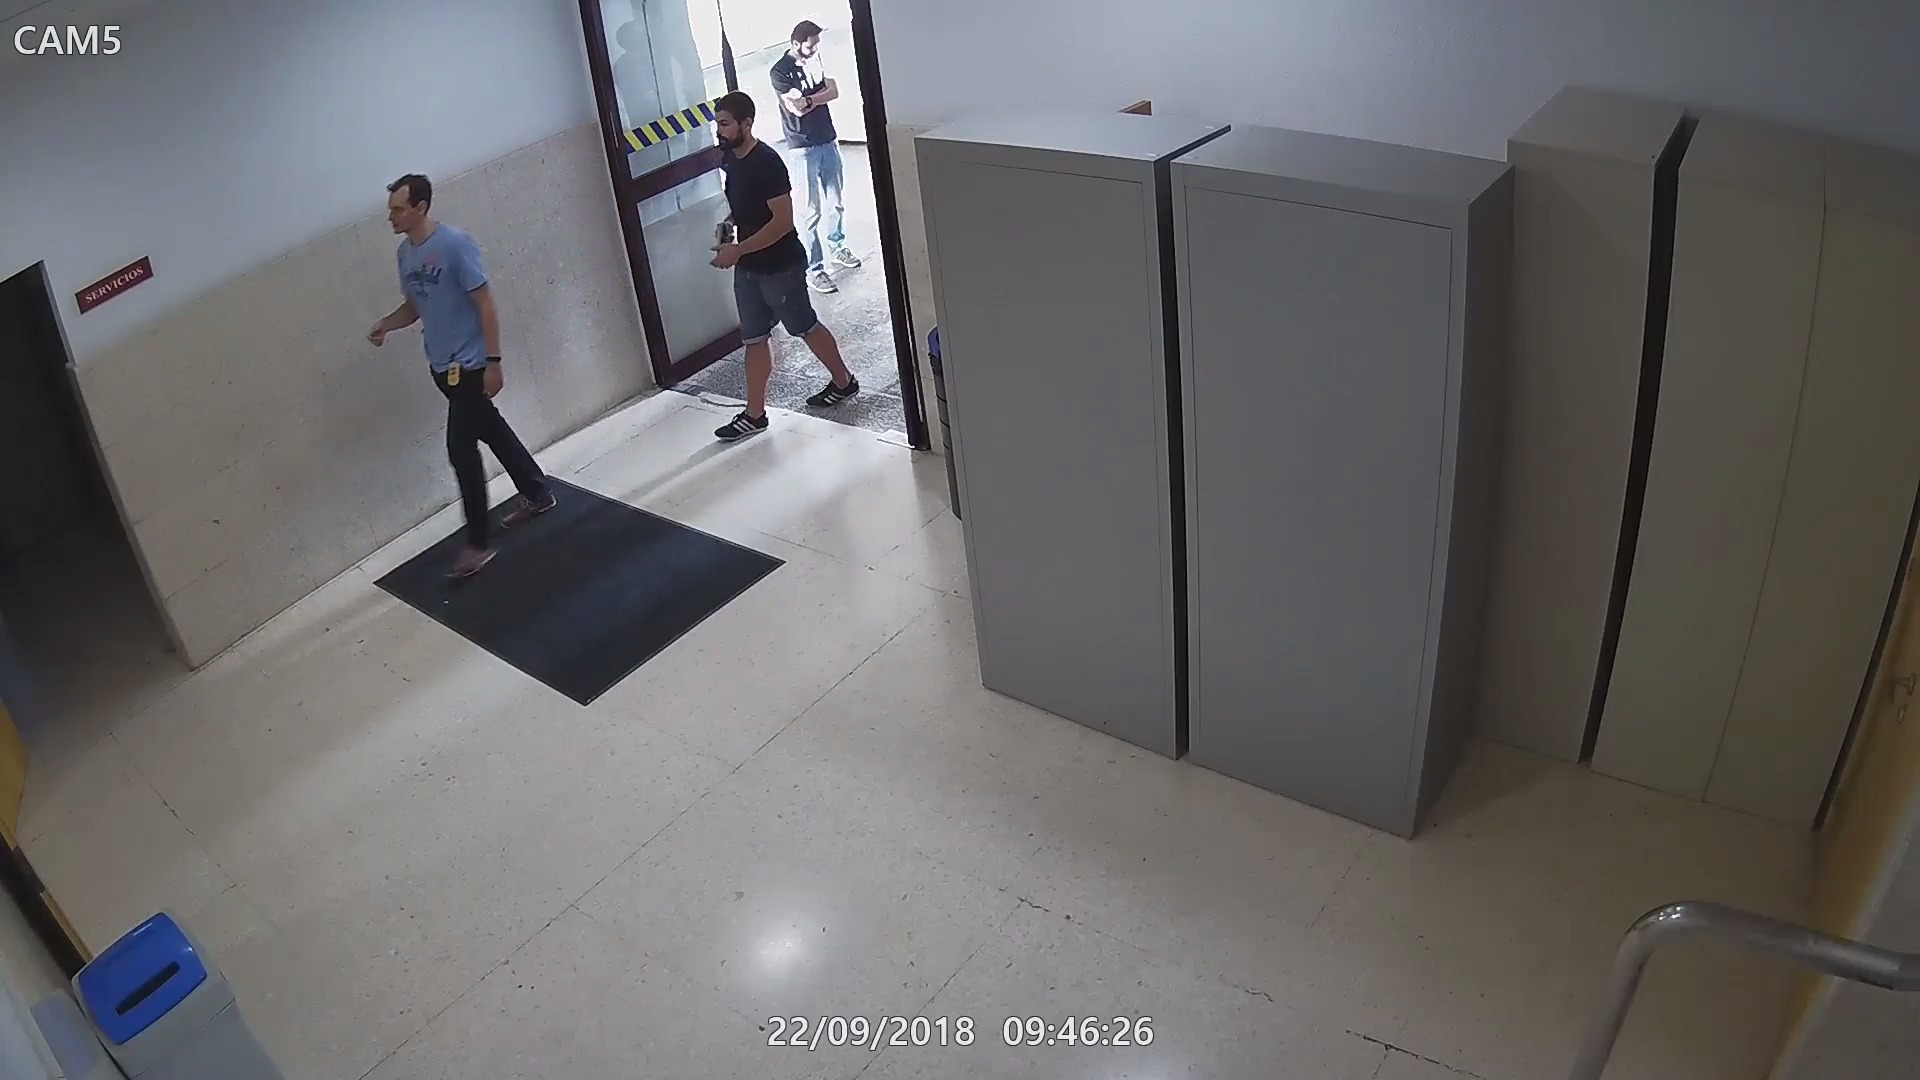Handgun: (709, 218, 738, 274)
